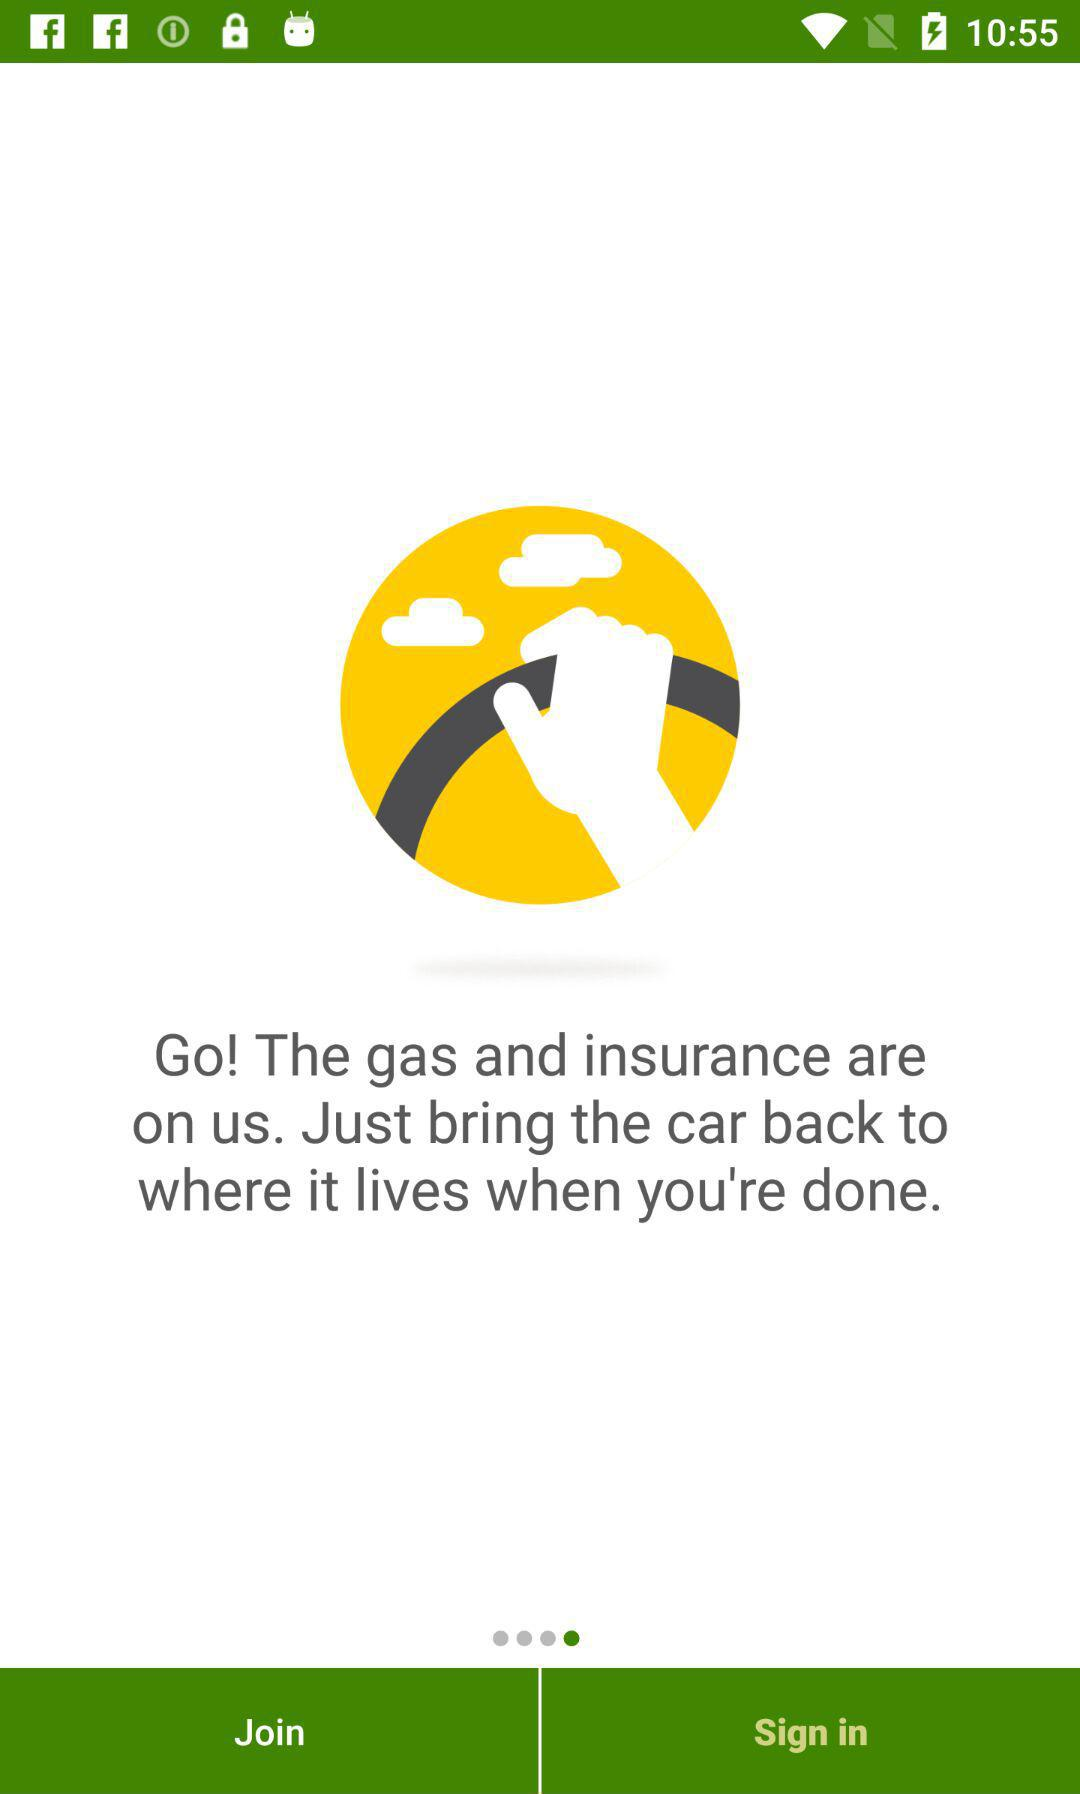Image: (340, 506, 740, 906)
PageIndicator: (493, 1629, 582, 1647)
Text: (132, 1032, 948, 1225)
TextButton: (542, 1668, 1080, 1794), (1, 1668, 539, 1794)
UpperTaskBar: (1, 1, 1080, 64)
